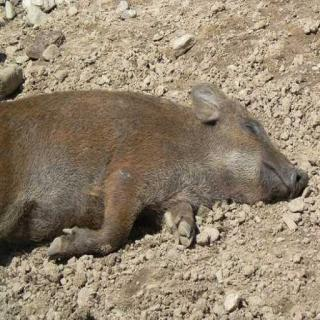Pig: (0, 50, 308, 265)
